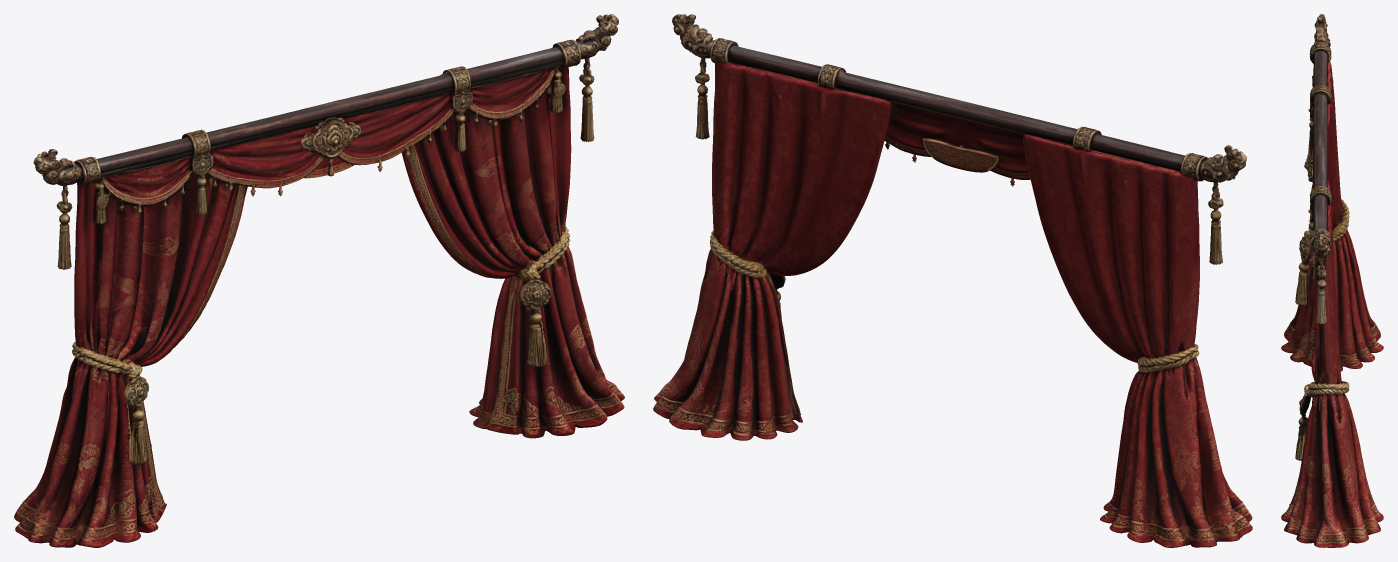
The model's file is 主坛帷幔.glb.
3 renders of one model, left to right at view 1: azimuth 30°, elevation 25°; view 2: azimuth 150°, elevation 25°; view 3: azimuth 270°, elevation 25°, orthographic. The views are drawn at different scales.
Parts seen in each view (by area): view 1: tripo_node_eba18f53-8707-40f1-8a62-4a77f2cd9b33; view 2: tripo_node_eba18f53-8707-40f1-8a62-4a77f2cd9b33; view 3: tripo_node_eba18f53-8707-40f1-8a62-4a77f2cd9b33.
Part boxes in pixels (x1,y1,x2,y2): tripo_node_eba18f53-8707-40f1-8a62-4a77f2cd9b33: (14, 14, 624, 547); tripo_node_eba18f53-8707-40f1-8a62-4a77f2cd9b33: (653, 14, 1252, 547); tripo_node_eba18f53-8707-40f1-8a62-4a77f2cd9b33: (1281, 14, 1383, 547).
Bounding box in the file's own units: 0.9825 × 0.6145 × 0.1841.
Materials: 1 (1 with a texture image).
